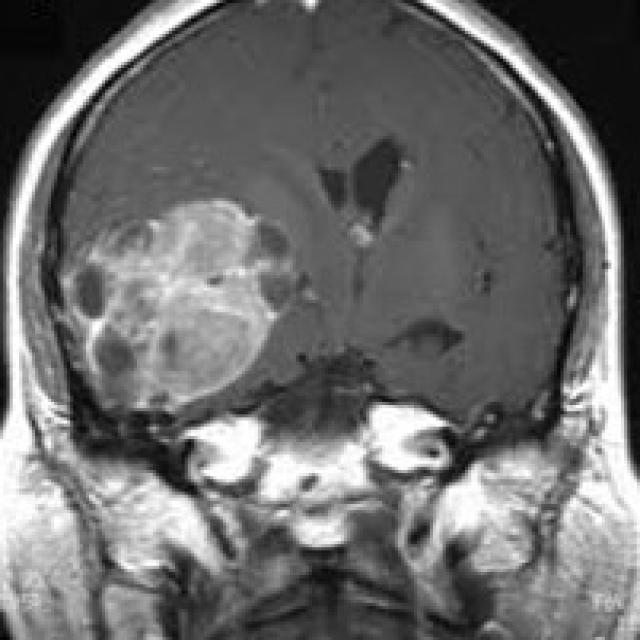brain_tumor: (63, 199, 295, 413)
